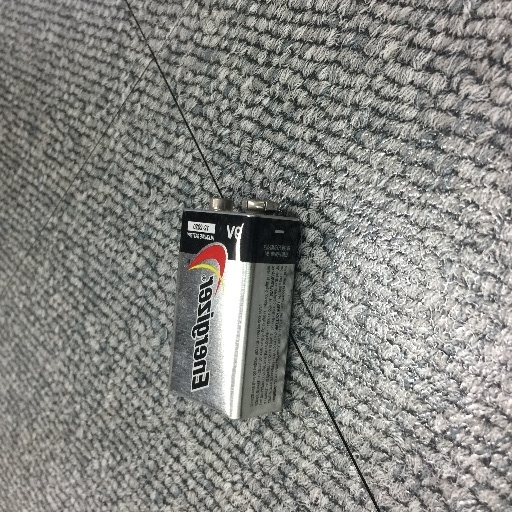Battery_3: (151, 162, 313, 431)
